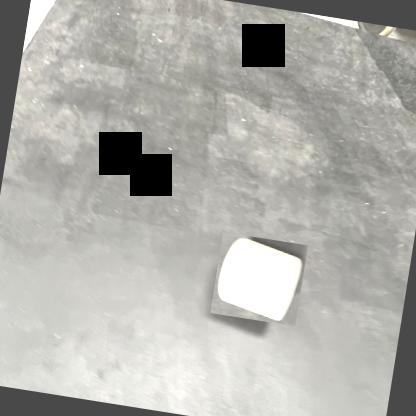white cylinder: (210, 232, 307, 326)
